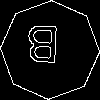B: (25, 25, 60, 72)
